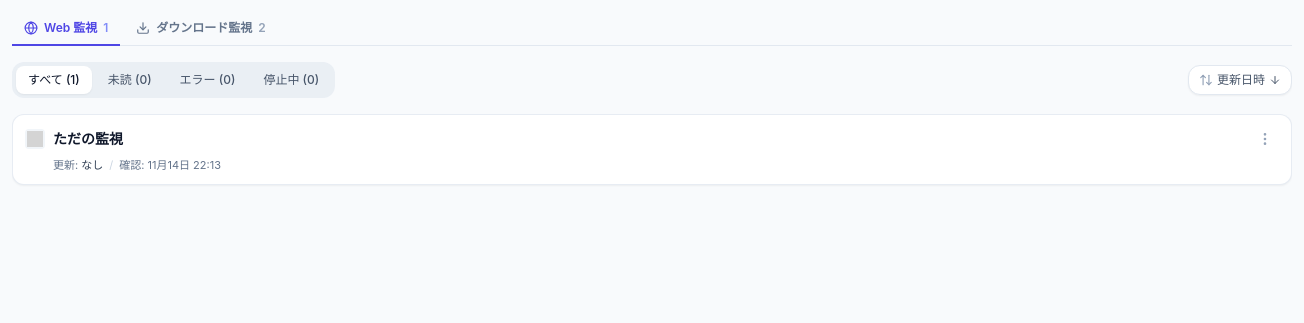
WatchList: Web 監視 / ダウンロード監視 › should show the two sites of one work under a single heading
This screenshot has width=1304, height=323.
Click the button "ダウンロード監視 2" at (201, 29), box top-left (124, 12), bottom-right (278, 46)
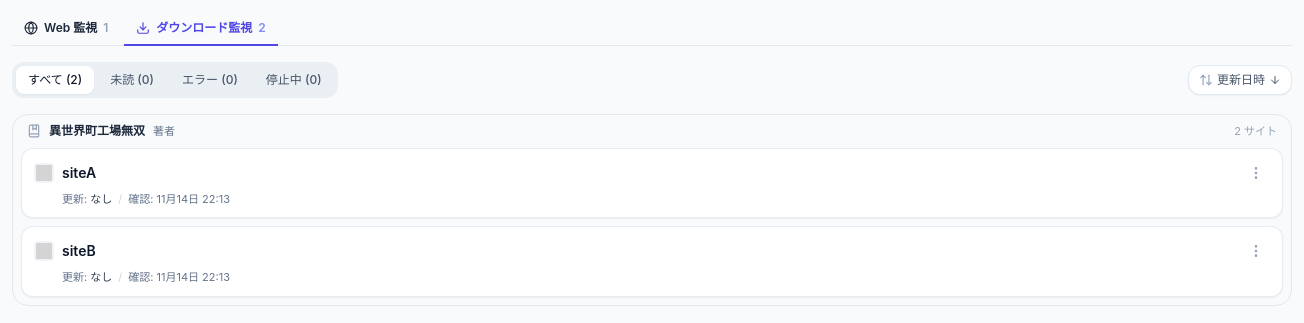
Now the heading "異世界町工場無双" is shown, box top-left (49, 123), bottom-right (145, 139)
Now the text "2 サイト" is shown, box top-left (1234, 123), bottom-right (1277, 140)
Now the heading "siteA" is shown, box top-left (62, 164), bottom-right (96, 181)
